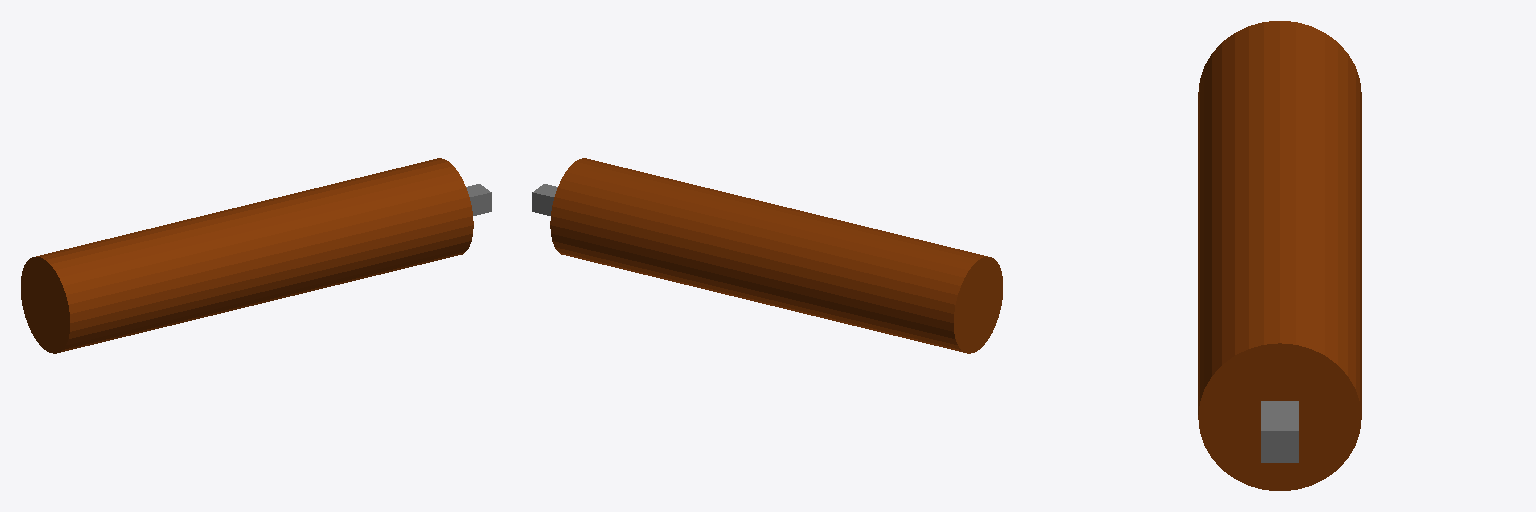
robot.urdf — handle_head:
<?xml version="1.0"?>
<robot name="handle_head">

  <link name="handle_head">
    <!-- Handle -->
    <visual>
              <origin xyz="0 0 0" rpy="0 -1.5707963267948966 0"/>
        <geometry>
          <cylinder length="0.11910108891715485" radius="0.012743315607611869"/>
        </geometry>
        
      <material name="brown">
        <color rgba="0.55 0.27 0.07 1.0"/>
      </material>
    </visual>
    <collision>
              <origin xyz="0 0 0" rpy="0 -1.5707963267948966 0"/>
        <geometry>
          <cylinder length="0.11910108891715485" radius="0.012743315607611869"/>
        </geometry>
        
    </collision>

    <!-- Head -->
    <visual>
              <origin xyz="0.06498863009604607 0 0" rpy="0 0 0"/>
        <geometry>
          <box size="0.010876171274937296 0.006025094761971444 0.005530314372381329"/>
        </geometry>
        
      <material name="gray">
        <color rgba="0.5 0.5 0.5 1.0"/>
      </material>
    </visual>
    <collision>
              <origin xyz="0.06498863009604607 0 0" rpy="0 0 0"/>
        <geometry>
          <box size="0.010876171274937296 0.006025094761971444 0.005530314372381329"/>
        </geometry>
        
    </collision>

    <inertial>
      <origin xyz="0.0004894146837038515 0 0" rpy="0 0 0"/>
      <mass value="0.02493584586161761"/>
      <inertia ixx="1.960315518521358e-06" iyy="4.018725752508051e-05" izz="4.0187346995665396e-05" ixy="0" ixz="0" iyz="0"/>
    </inertial>
  </link>

</robot>

--- What the picture shows (computed from the rendered views, not written in the file) ---
3 views of the same robot in one strip: view 1: azimuth 30°, elevation 25°; view 2: azimuth 150°, elevation 25°; view 3: azimuth 270°, elevation 25° (orthographic).
Model handle_head with 1 links and 0 joints (none), rooted at handle_head, posed every joint at zero.
Links seen in each view (by area): view 1: handle_head; view 2: handle_head; view 3: handle_head.
Link boxes in pixels (x1,y1,x2,y2): handle_head: (21,158,491,353); handle_head: (532,158,1002,353); handle_head: (1198,21,1361,490).
Size in the robot's own frame: 0.13 by 0.0255 by 0.0255 metres.
Geometry: primitives only (box / cylinder / sphere), no mesh files.
